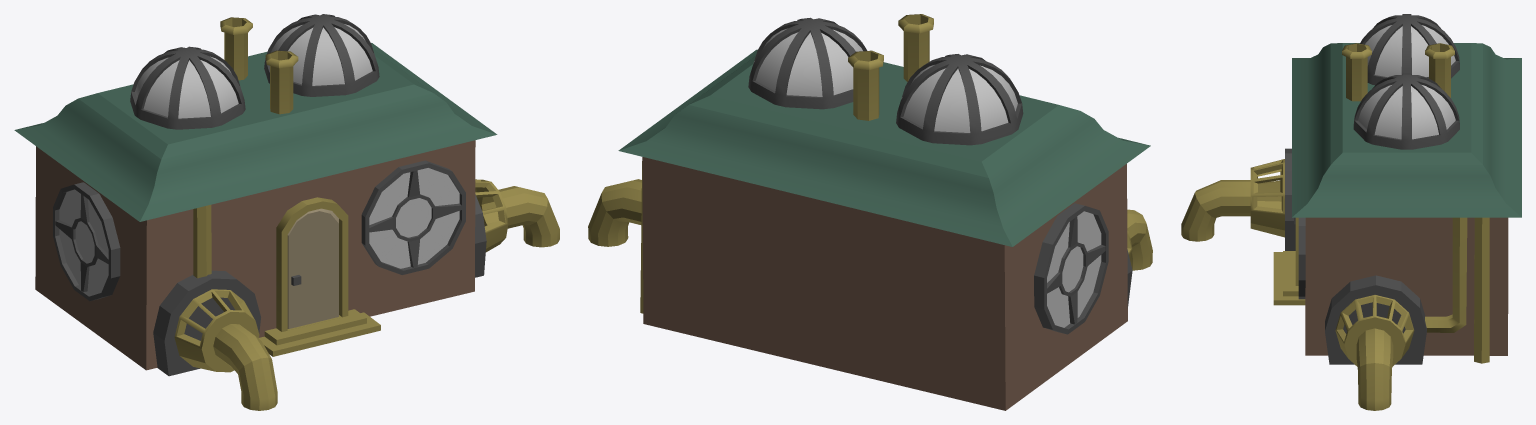
File: LongHouse.fbx
The picture shows the model from 3 angles, left to right: view 1: azimuth 30°, elevation 25°; view 2: azimuth 150°, elevation 25°; view 3: azimuth 270°, elevation 25°; orthographic projection. The views are drawn at different scales.
Parts seen in each view (by area): view 1: LongHouse; view 2: LongHouse; view 3: LongHouse.
Boxes of the visible parts, left/top/right/bottom form: LongHouse: left=14, top=14, right=559, bottom=410; LongHouse: left=588, top=14, right=1152, bottom=410; LongHouse: left=1181, top=14, right=1521, bottom=410.
Bounding box in the file's own units: 13.84 × 7.35 × 9.64.
